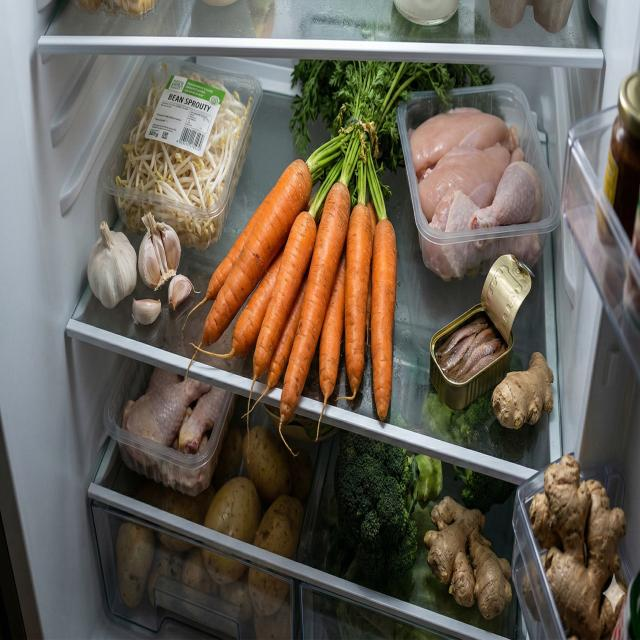bean_sprouts: (115, 64, 253, 250)
brocolli: (333, 428, 444, 578)
carrot: (182, 158, 398, 458)
chicken: (409, 106, 543, 283), (121, 368, 226, 497)
garlic: (87, 212, 192, 324)
ginger: (523, 455, 626, 640), (424, 496, 511, 621), (492, 350, 554, 429)
potato: (115, 426, 314, 640)
